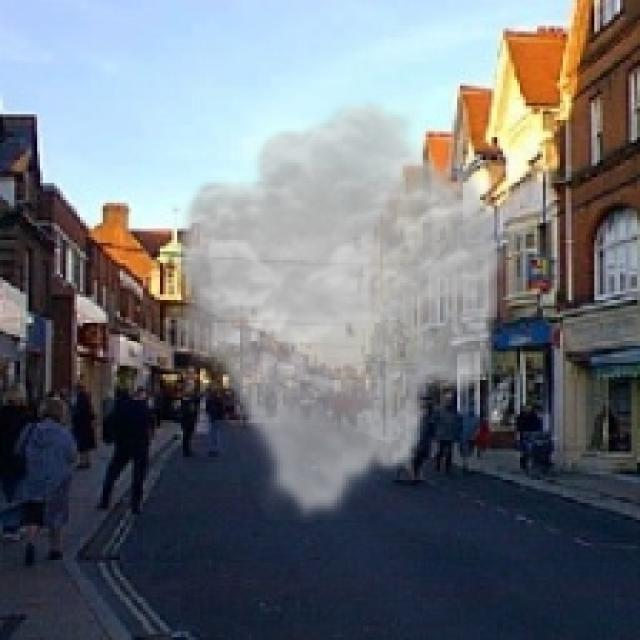smoke: (166, 97, 514, 523)
